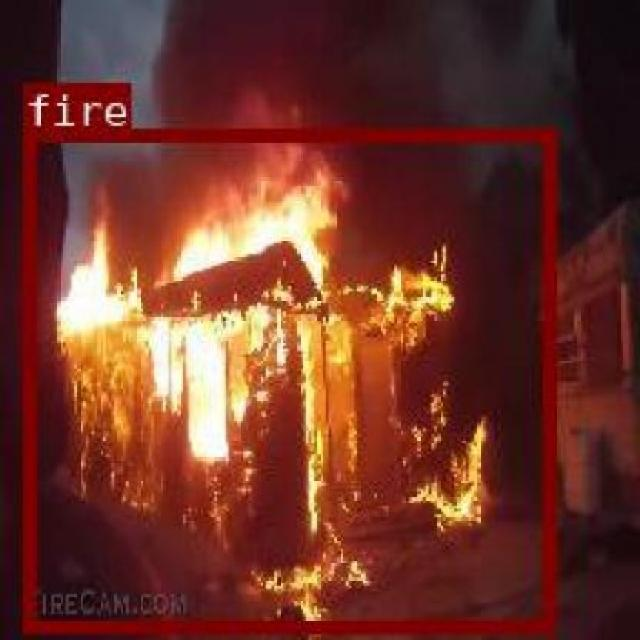Fire: (287, 379, 534, 503)
